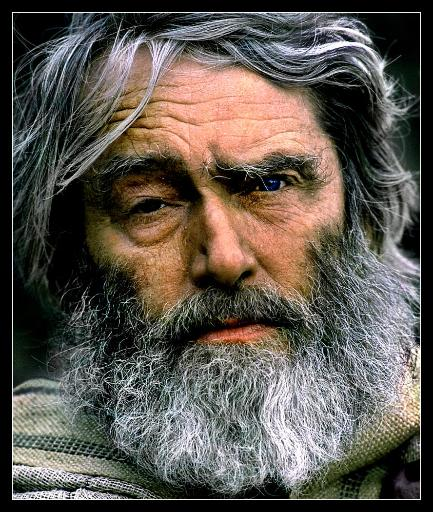left_eye: (213, 173, 302, 202)
left_lip_corner: (259, 311, 294, 339)
right_eye: (131, 198, 185, 222)
right_lip_corner: (179, 329, 210, 349)
